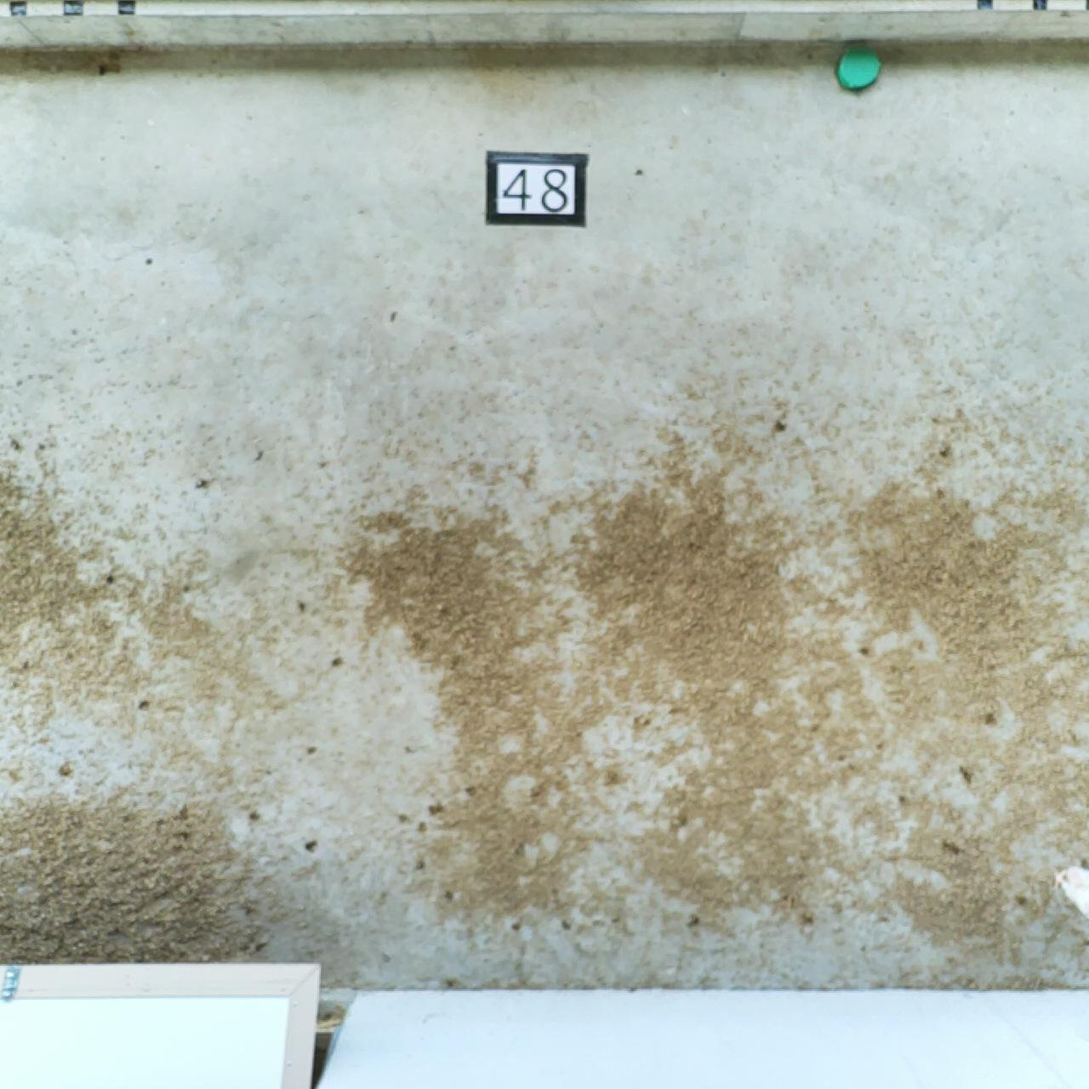chicken: (1055, 861, 1089, 912)
